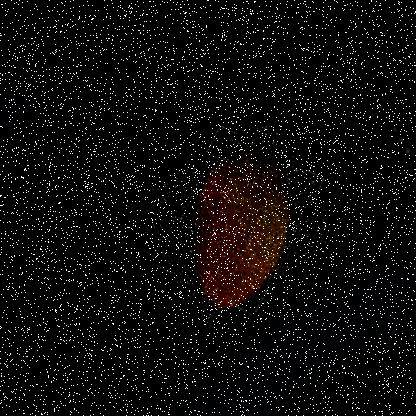mango: (124, 109, 351, 330)
